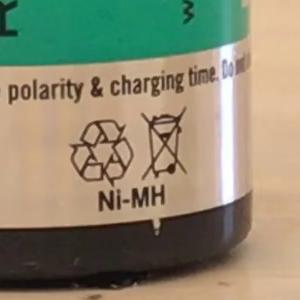NI-MH: (88, 174, 175, 222)
